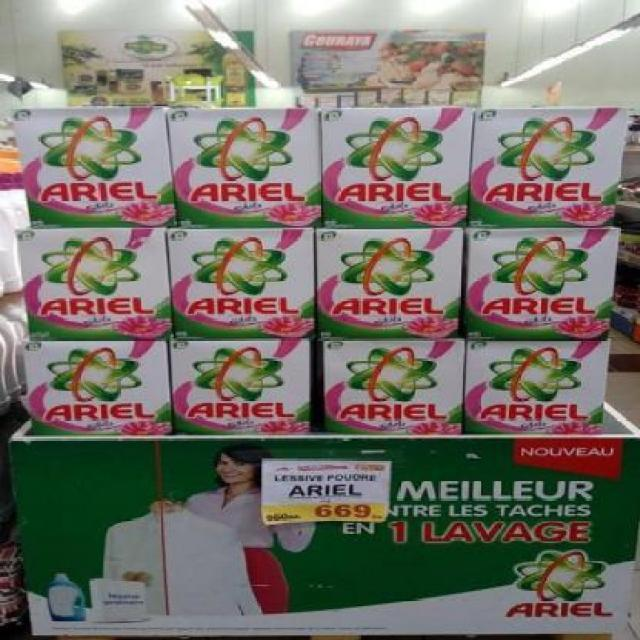Detergent: (320, 102, 474, 233), (22, 106, 171, 226), (169, 225, 320, 342), (466, 111, 612, 227), (461, 226, 610, 337), (175, 110, 317, 224), (165, 333, 322, 436), (29, 228, 166, 337), (459, 337, 607, 437), (318, 335, 469, 431), (29, 340, 161, 438)
